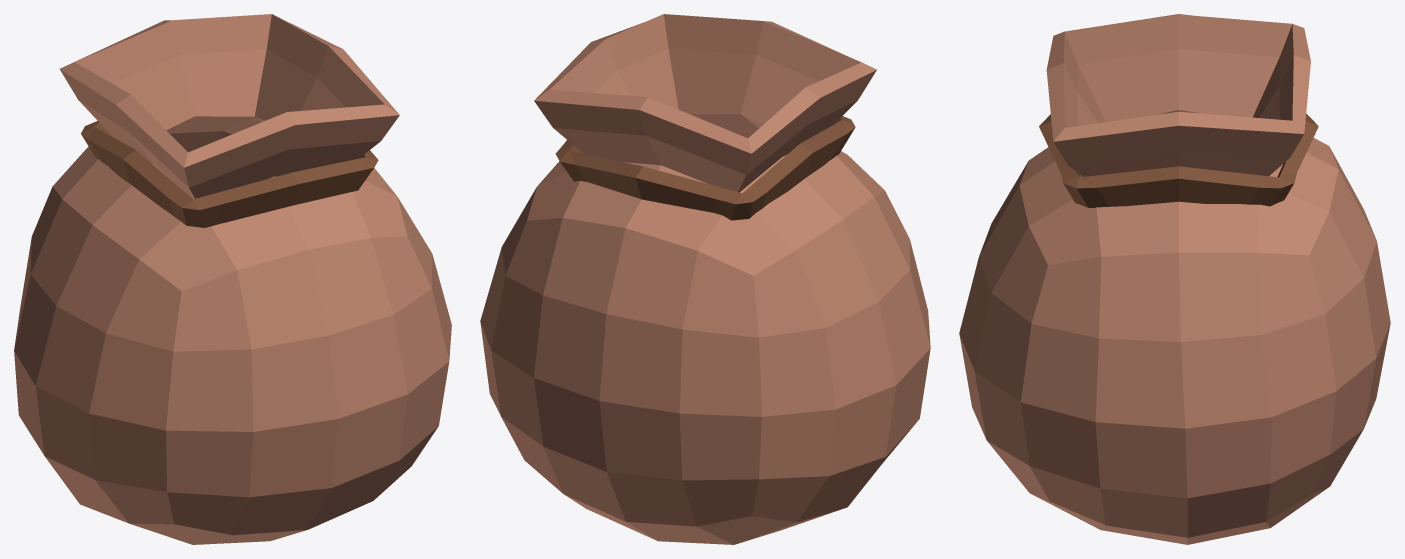
Rendered from Sack.fbx.
The picture shows the model from 3 angles, left to right: view 1: azimuth 30°, elevation 25°; view 2: azimuth 150°, elevation 25°; view 3: azimuth 270°, elevation 25°; orthographic projection.
Visible parts, largest first — view 1: SAck, Sack Rope; view 2: SAck, Sack Rope; view 3: SAck, Sack Rope.
Part boxes in pixels (box(x1,y1,x2,y2)): SAck: box(14, 14, 451, 544); Sack Rope: box(81, 121, 378, 227); SAck: box(480, 14, 930, 544); Sack Rope: box(555, 116, 855, 220); SAck: box(959, 14, 1390, 544); Sack Rope: box(1039, 114, 1318, 207).
Bounding box in the file's own units: 71.68 × 82.29 × 69.03.
